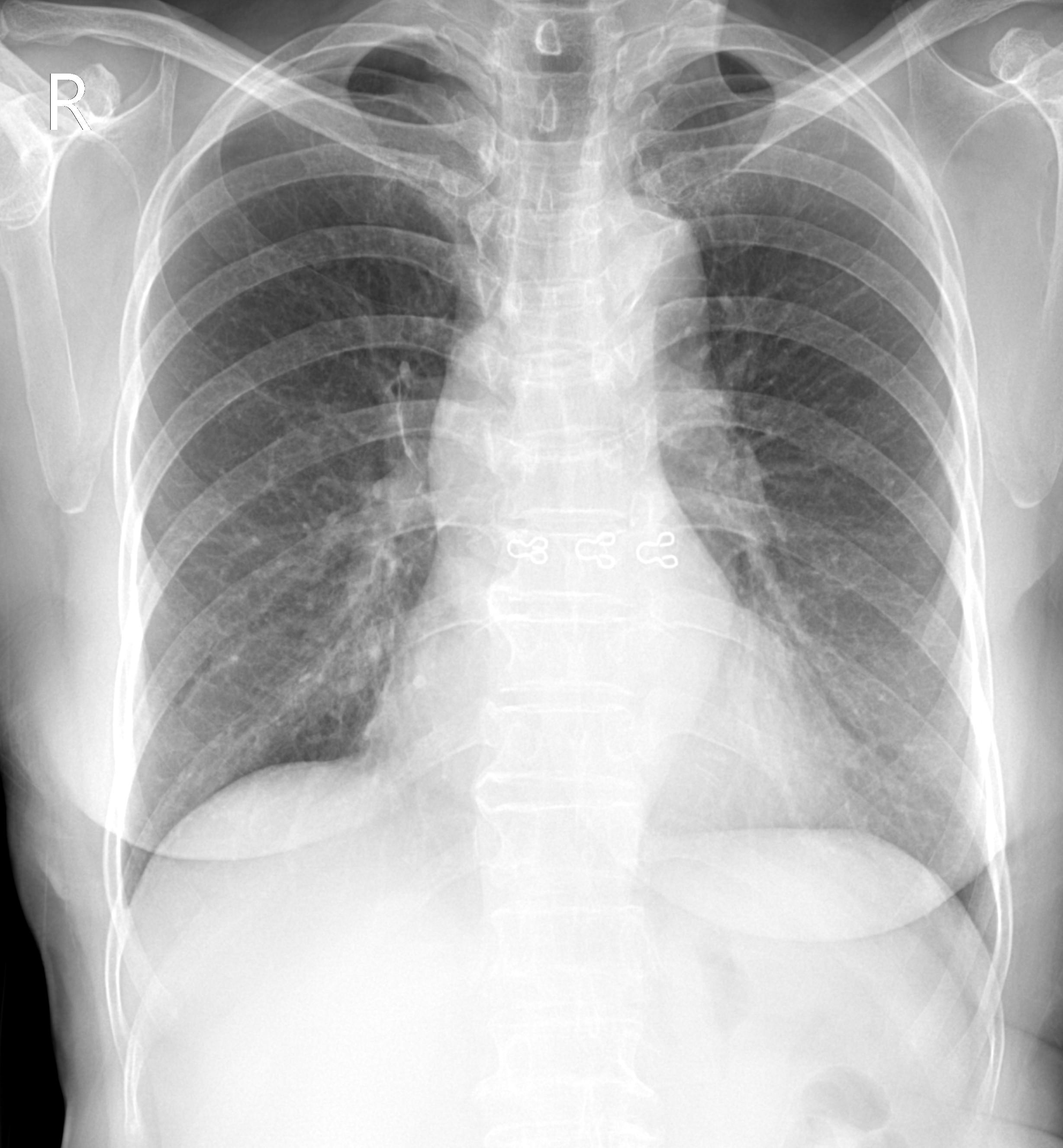Aortic enlargement: (556, 194, 708, 373)
Cardiomegaly: (346, 649, 900, 852)
Pulmonary fibrosis: (386, 376, 422, 474)
